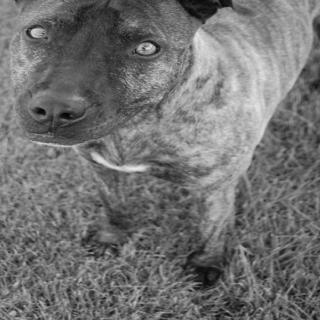dog: (0, 0, 234, 149)
nose: (23, 90, 91, 127)
